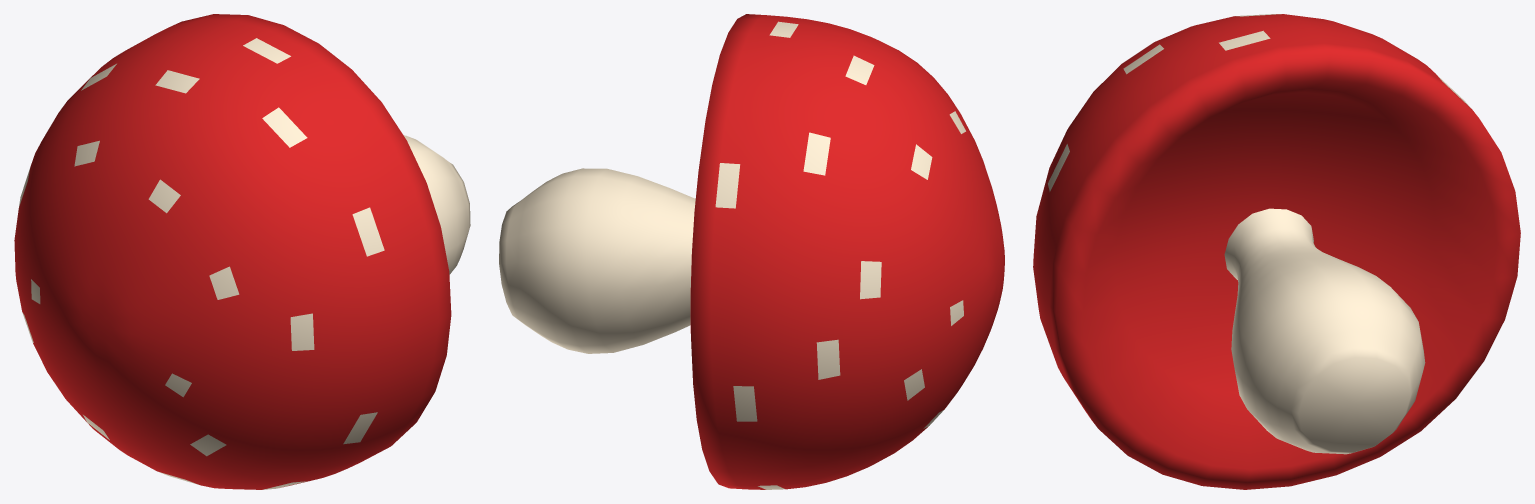
Rendered from CogumeVenenoso.fbx.
The picture shows the model from 3 angles, left to right: view 1: azimuth 30°, elevation 25°; view 2: azimuth 150°, elevation 25°; view 3: azimuth 270°, elevation 25°; orthographic projection. The views are drawn at different scales.
Visible parts, largest first — view 1: CogumeloVenenoso; view 2: CogumeloVenenoso; view 3: CogumeloVenenoso.
Part boxes in pixels (x1,y1,x2,y2): CogumeloVenenoso: [14, 14, 470, 489]; CogumeloVenenoso: [499, 14, 1004, 489]; CogumeloVenenoso: [1033, 14, 1520, 489].
Bounding box in the file's own units: 222 × 209 × 209.
